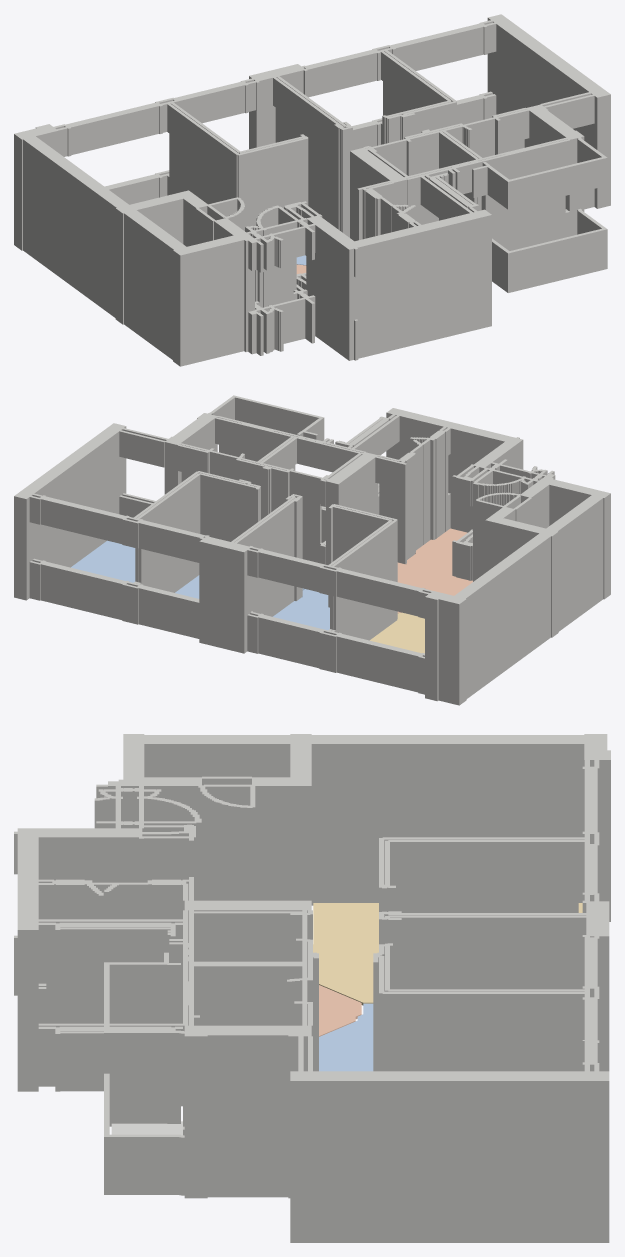
3 renders of one model, top to bottom at view 1: azimuth 30°, elevation 25°; view 2: azimuth 150°, elevation 25°; view 3: azimuth 270°, elevation 25°, orthographic. The views are drawn at different scales.
Visible parts, largest first — view 1: walls; view 2: walls, room:kitchen:6, room:bedroom:2, room:bedroom:1, room:living:0; view 3: walls, room:living:0, room:bedroom:1, room:kitchen:6, room:ledge:8.
Part boxes in pixels (x1,y1,x2,y2): walls: (14, 14, 610, 366); walls: (14, 395, 610, 705); room:kitchen:6: (397, 528, 472, 613); room:bedroom:2: (71, 540, 135, 582); room:bedroom:1: (273, 589, 329, 630); room:living:0: (370, 612, 424, 653); walls: (14, 734, 610, 1242); room:living:0: (313, 903, 582, 1005); room:bedroom:1: (319, 1003, 373, 1071); room:kitchen:6: (319, 985, 361, 1036); room:ledge:8: (111, 1121, 182, 1135).
Bounding box in the file's own units: 12.86 × 2.8 × 9.36.
